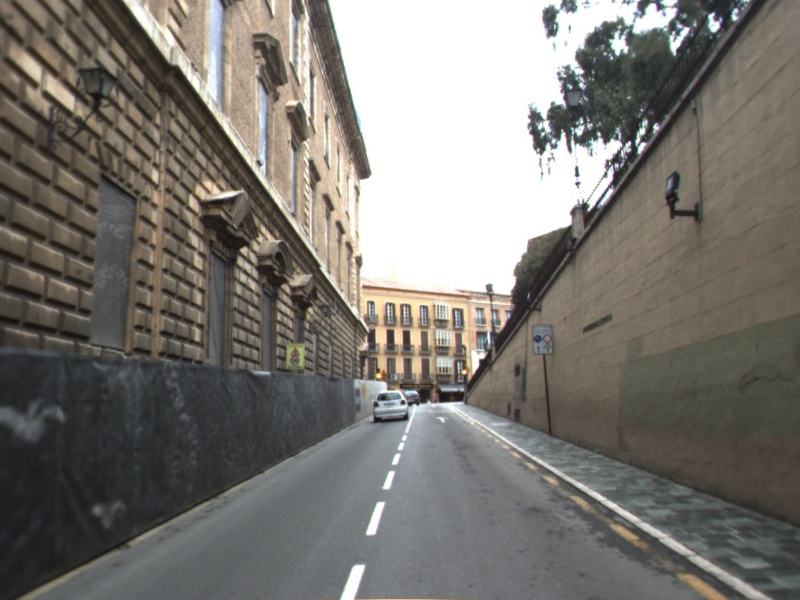STRAIGHT: (432, 414, 450, 424)
